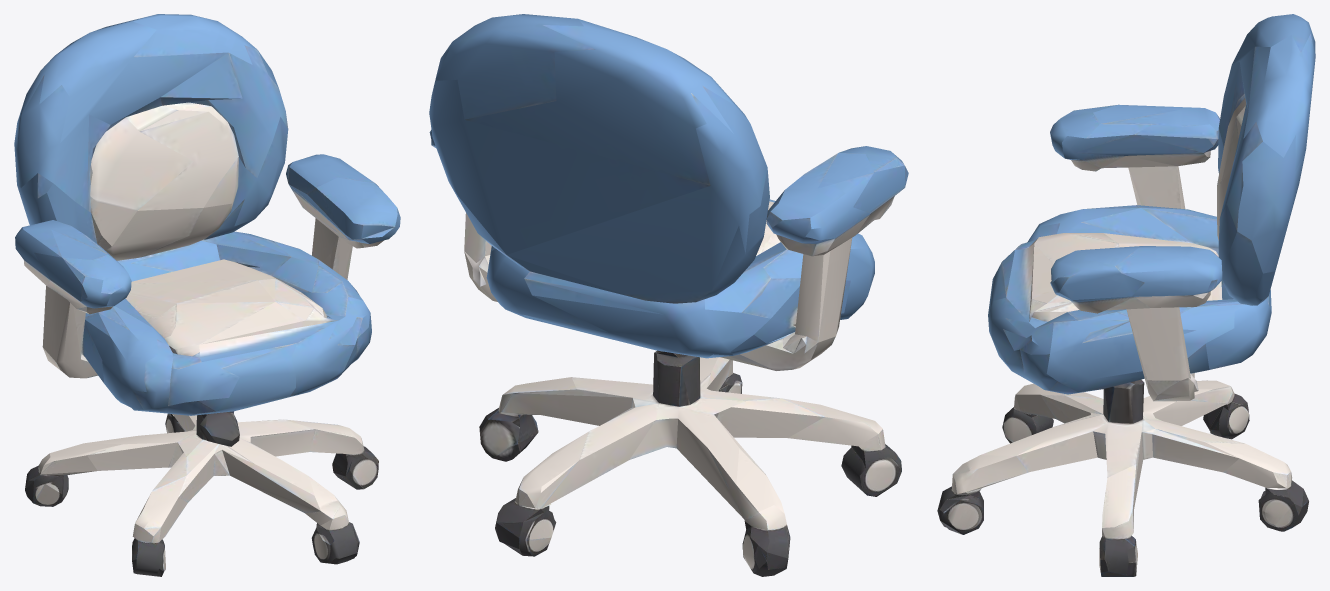
File: office-chair.glb
3 renders of one model, left to right at view 1: azimuth 30°, elevation 25°; view 2: azimuth 150°, elevation 25°; view 3: azimuth 270°, elevation 25°, orthographic. The views are drawn at different scales.
Visible parts, largest first — view 1: office-chair-fit; view 2: office-chair-fit; view 3: office-chair-fit.
Part boxes in pixels (bbox=[...]): office-chair-fit: bbox=[14, 14, 400, 576]; office-chair-fit: bbox=[429, 14, 908, 576]; office-chair-fit: bbox=[937, 14, 1315, 576].
Bounding box in the file's own units: 1.08 × 1.4 × 1.02.
Materials: 1 (1 with a texture image).
